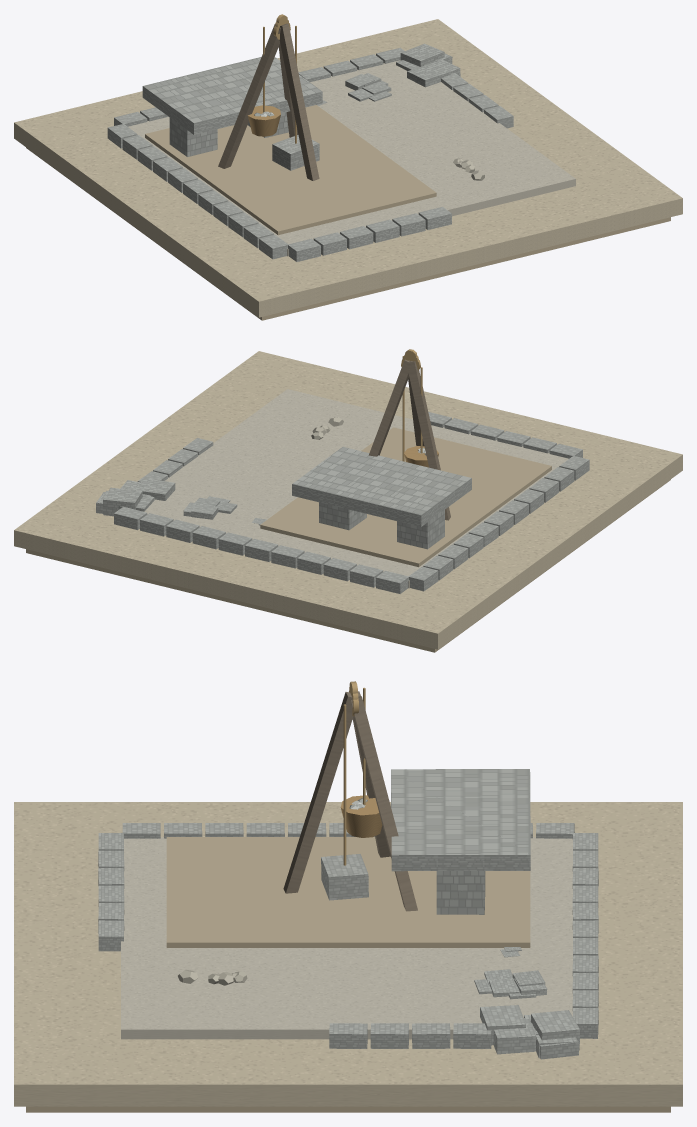
Rendered from lin-5-construction.glb.
3 renders of one model, top to bottom at view 1: azimuth 30°, elevation 25°; view 2: azimuth 150°, elevation 25°; view 3: azimuth 270°, elevation 25°, orthographic. The views are drawn at different scales.
Size of the model in its own units: 25 by 10.33 by 25.
12 materials, 6 textured.
